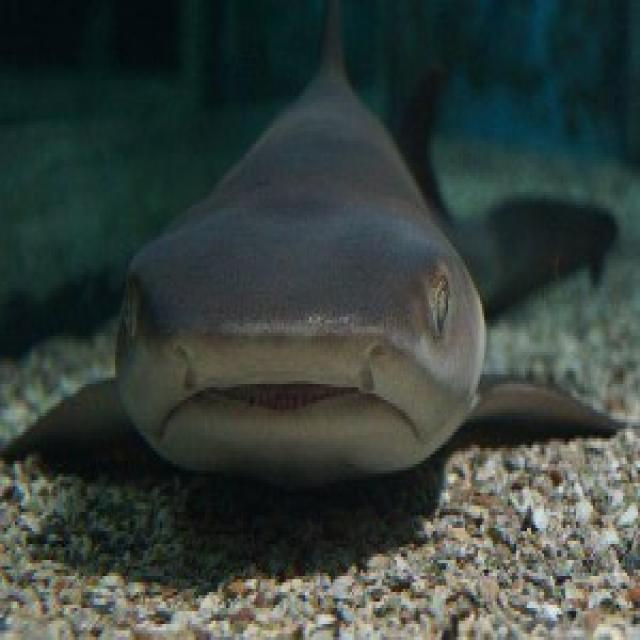Shark: (8, 7, 630, 493)
